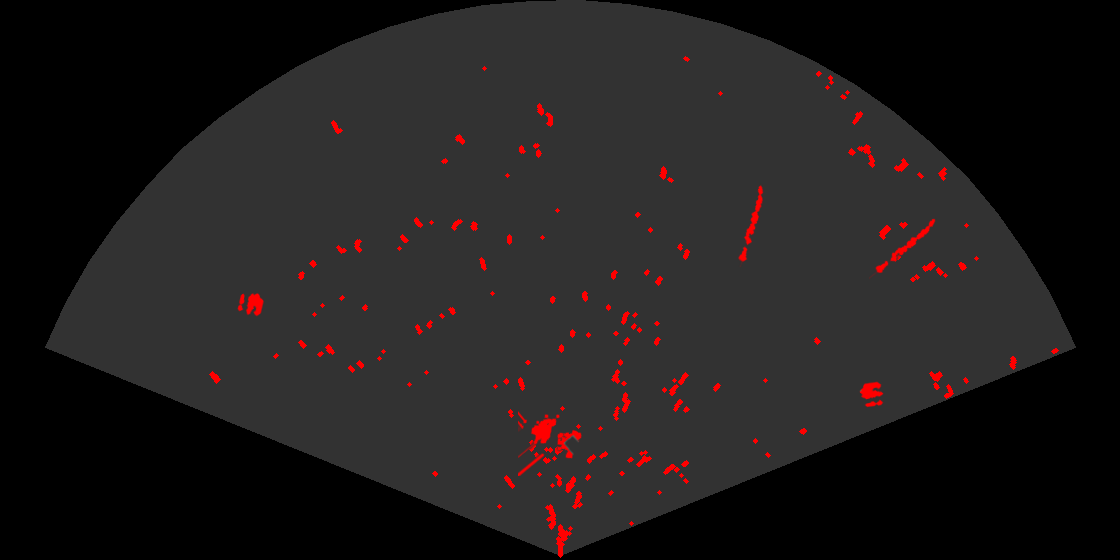ball: (858, 380, 885, 409), (236, 292, 265, 318)
cage: (518, 409, 583, 476)
chain: (869, 217, 937, 281), (737, 183, 765, 267)
